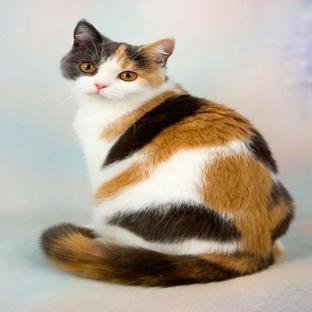Animal: (40, 20, 294, 287)
